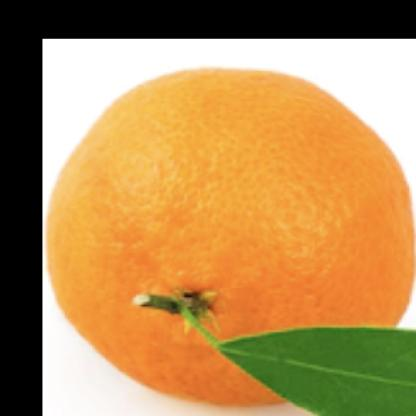fresh: (50, 69, 416, 416)
